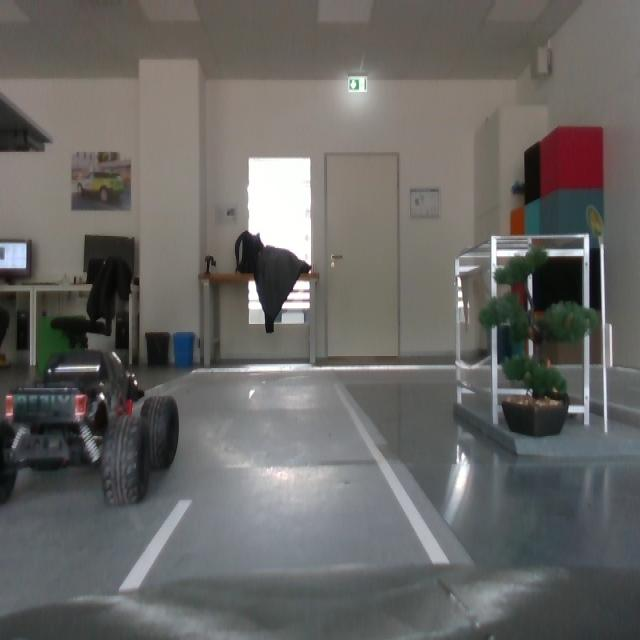car: (1, 343, 185, 512)
potted plant: (477, 250, 597, 406)
